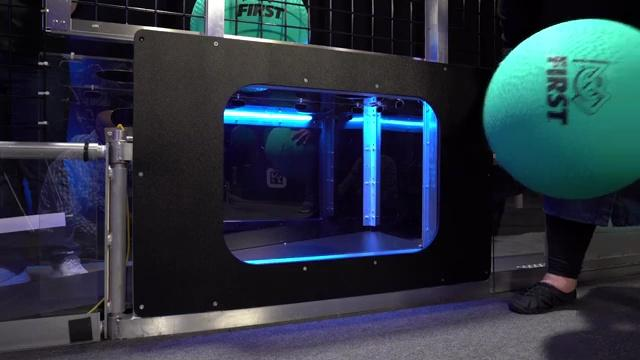ALGAE: (481, 17, 638, 200), (189, 0, 311, 45)
